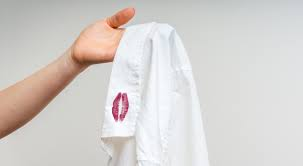kimchi: (112, 86, 129, 126)
